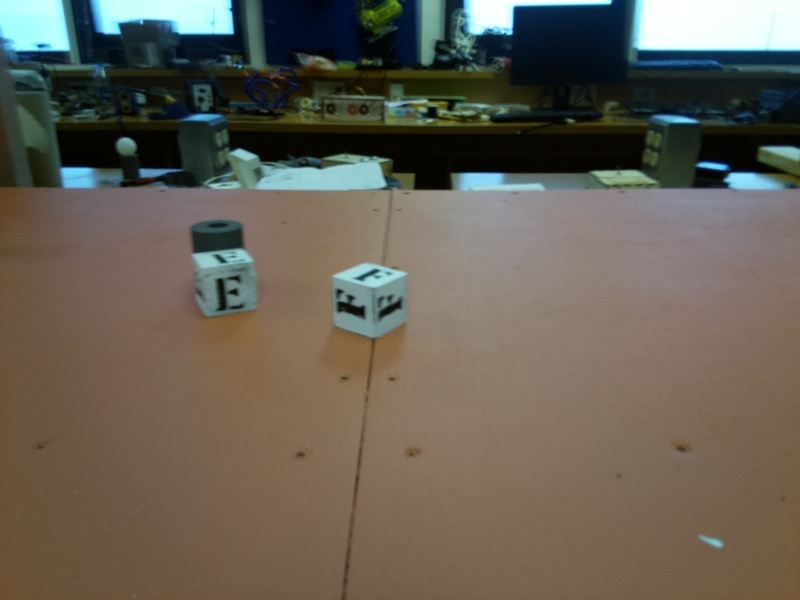blockE: (193, 248, 265, 320)
blockF: (329, 263, 411, 336)
